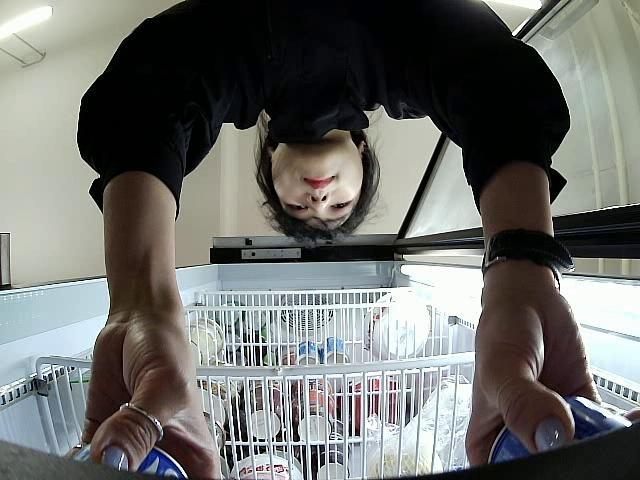13_pocariSweat: (488, 396, 630, 462), (74, 442, 188, 480)
